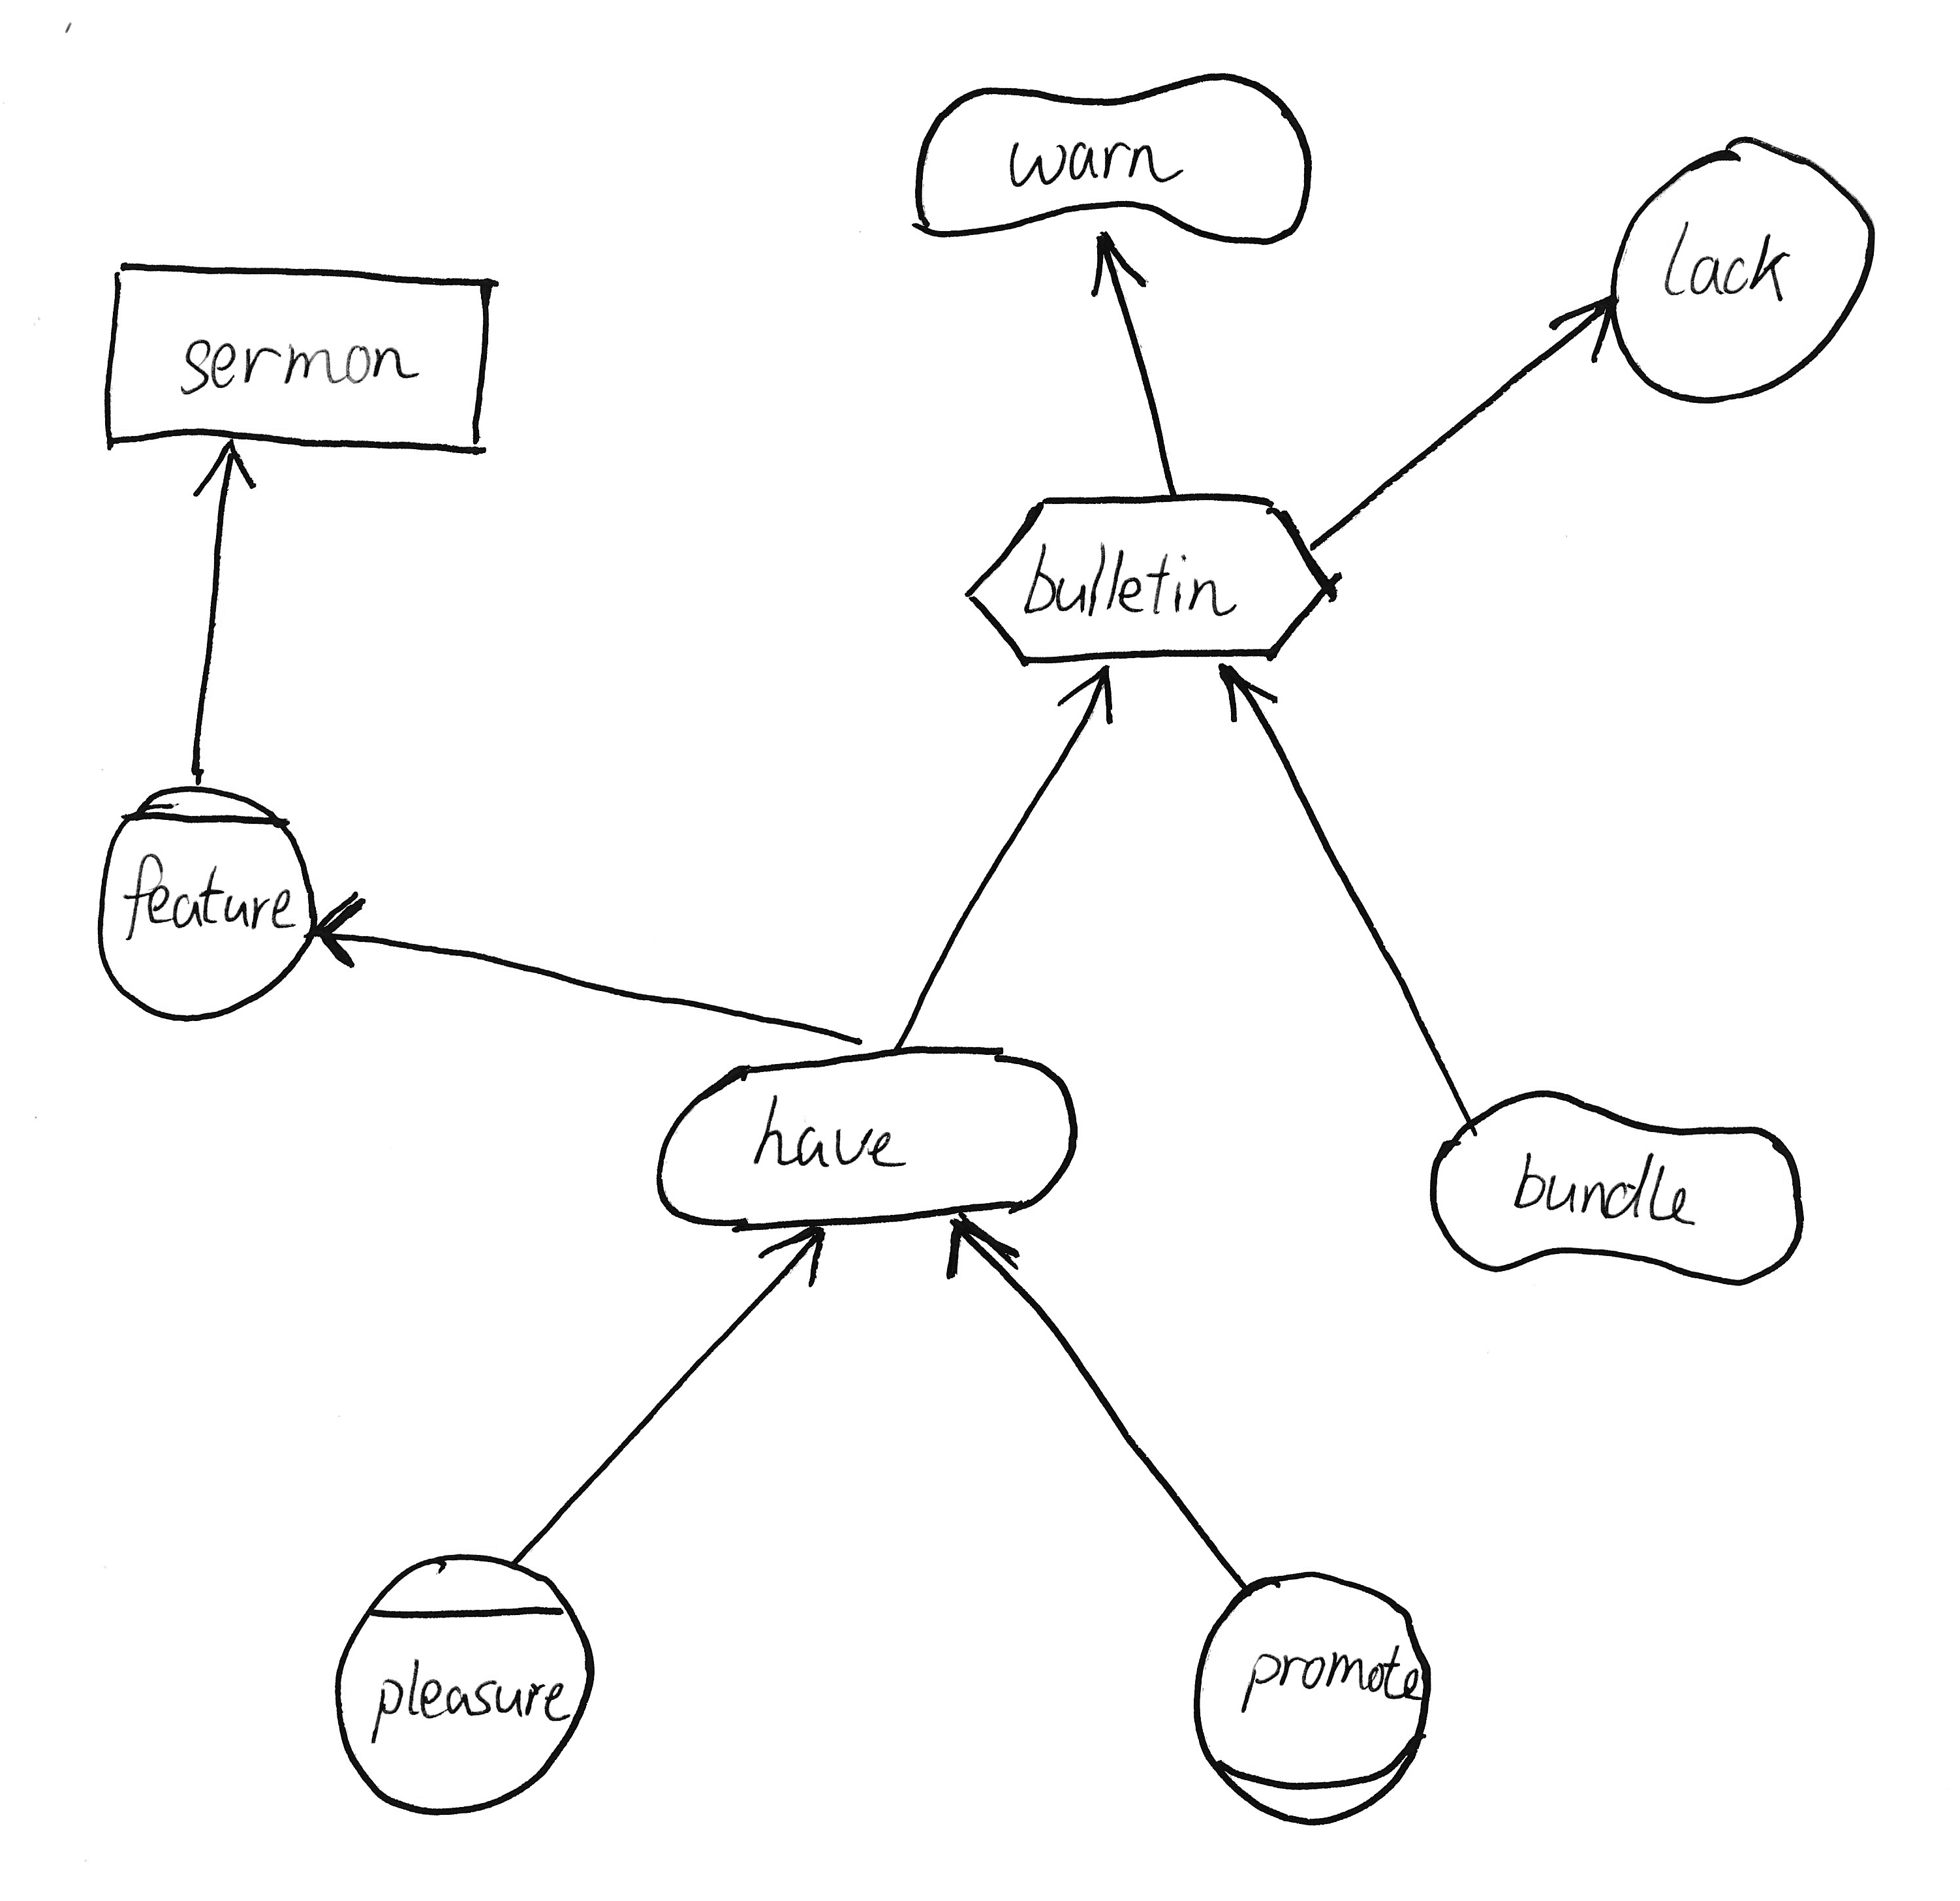actor: (1589, 110, 1895, 424)
agent: (320, 1528, 607, 1829), (80, 767, 329, 1040)
arrow: (917, 1210, 1036, 1306), (1538, 277, 1624, 387), (161, 434, 283, 511), (304, 877, 385, 993), (1069, 222, 1164, 317), (1192, 656, 1293, 737), (1043, 656, 1134, 740), (752, 1227, 840, 1306)
goal: (632, 1029, 1118, 1250)
quality: (1412, 1071, 1829, 1302), (891, 46, 1333, 263)
resource: (87, 238, 516, 476)
role: (1183, 1554, 1454, 1840)
task: (947, 469, 1361, 681)
